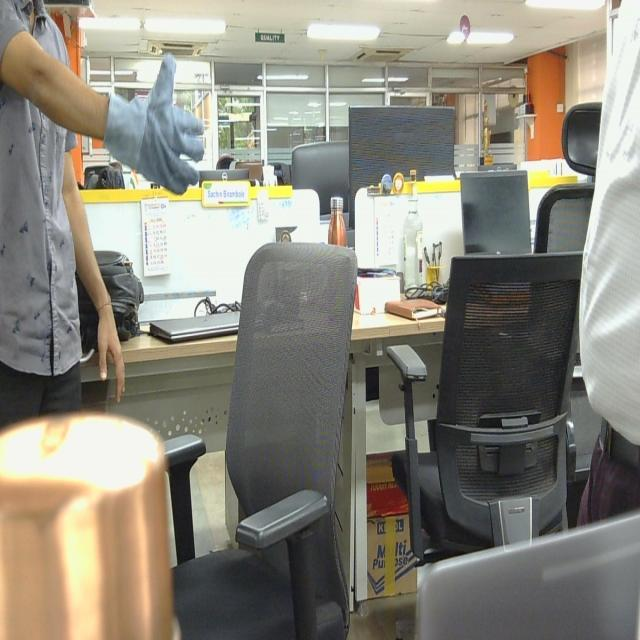Gloves-Detection: (104, 54, 204, 202)
